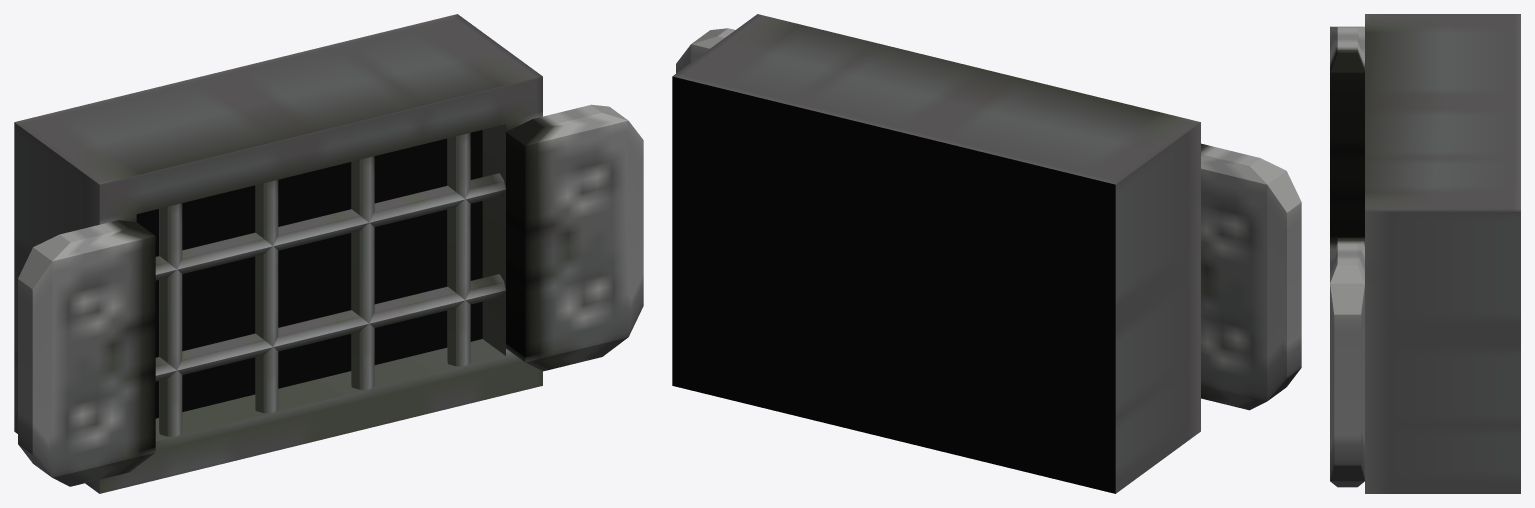
The model's file is Poly_Small_Window_05.obj.
3 views of the same model, side by side, from view 1: azimuth 30°, elevation 25°; view 2: azimuth 150°, elevation 25°; view 3: azimuth 270°, elevation 25° (orthographic). The views are drawn at different scales.
Visible parts, largest first — view 1: Cube_Cube.001, Cube, Cube.001_Cube.003, Cube.002_Cube.005, Cube.003_Cube.004; view 2: Cube_Cube.001, Cube; view 3: Cube_Cube.001, Cube.
Boxes of the visible parts, left/top/right/bottom form: Cube_Cube.001: left=14, top=14, right=542, bottom=493; Cube: left=18, top=104, right=643, bottom=486; Cube.001_Cube.003: left=155, top=173, right=505, bottom=381; Cube.002_Cube.005: left=351, top=133, right=470, bottom=389; Cube.003_Cube.004: left=159, top=180, right=278, bottom=436; Cube_Cube.001: left=672, top=14, right=1200, bottom=493; Cube: left=676, top=28, right=1301, bottom=410; Cube_Cube.001: left=1365, top=14, right=1520, bottom=493; Cube: left=1330, top=26, right=1364, bottom=487.
Size of the model in its own units: 1.24 by 0.6 by 0.3675.
Materials: 1 (1 with a texture image).
